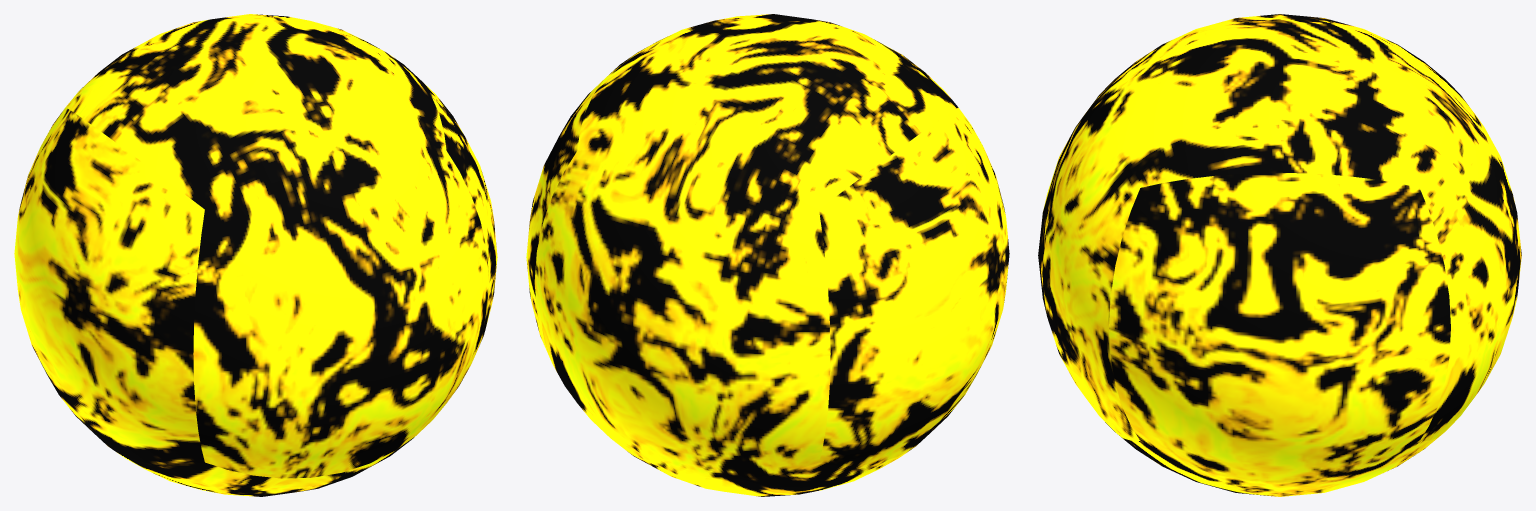
The model's file is storm.glb.
3 renders of one model, left to right at view 1: azimuth 30°, elevation 25°; view 2: azimuth 150°, elevation 25°; view 3: azimuth 270°, elevation 25°, orthographic.
Visible parts, largest first — view 1: 0_fireball_yellow; view 2: 0_fireball_yellow; view 3: 0_fireball_yellow.
Boxes of the visible parts, x1=… form: 0_fireball_yellow: x1=14, y1=14, x2=497, y2=496; 0_fireball_yellow: x1=526, y1=14, x2=1009, y2=496; 0_fireball_yellow: x1=1038, y1=14, x2=1521, y2=496.
Size of the model in its own units: 0.127 by 0.127 by 0.127.
Materials: 1 (1 with a texture image).
